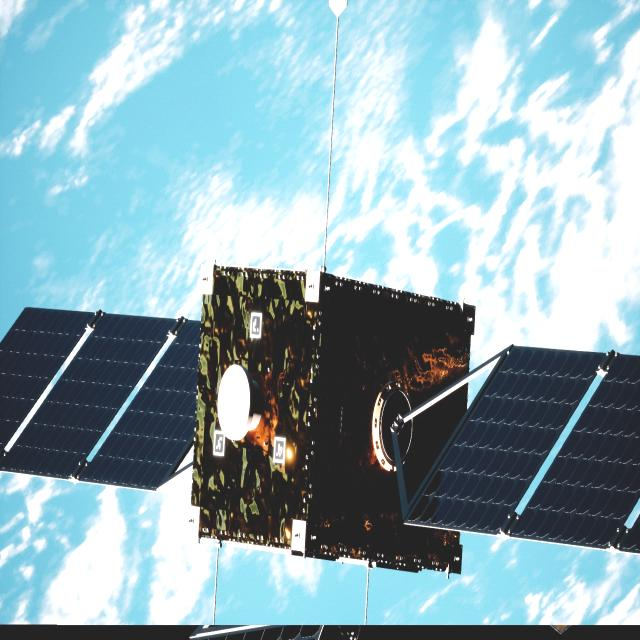medium_debris: (0, 266, 640, 575)
